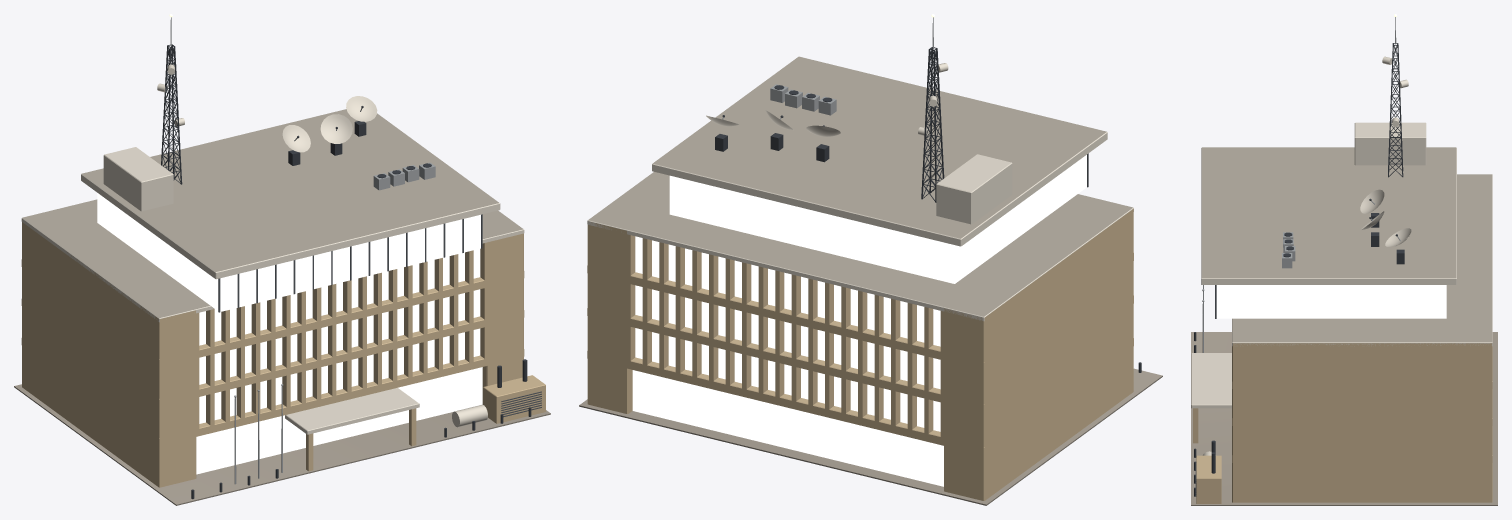
File: emergency-ops.glb
The picture shows the model from 3 angles, left to right: view 1: azimuth 30°, elevation 25°; view 2: azimuth 150°, elevation 25°; view 3: azimuth 270°, elevation 25°; orthographic projection. The views are drawn at different scales.
Parts seen in each view (by area): view 1: emergency-ops_v0; view 2: emergency-ops_v0; view 3: emergency-ops_v0.
Part boxes in pixels (bbox=[...]): emergency-ops_v0: bbox=[14, 14, 550, 505]; emergency-ops_v0: bbox=[579, 14, 1162, 505]; emergency-ops_v0: bbox=[1191, 14, 1497, 505].
Bounding box in the file's own units: 40 × 39.56 × 30.
